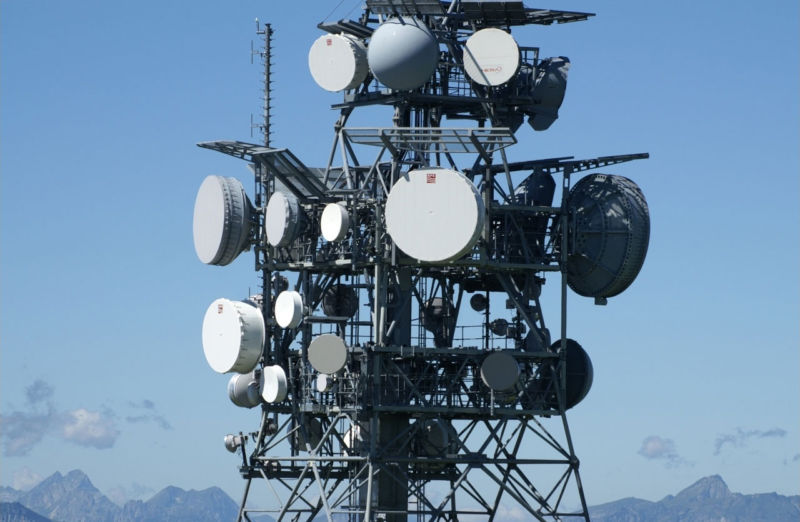ba: (377, 157, 491, 299), (552, 164, 648, 327), (194, 291, 266, 379), (184, 164, 243, 268), (454, 30, 521, 108), (312, 22, 369, 102), (261, 183, 302, 267), (524, 52, 564, 131), (301, 322, 352, 375), (319, 184, 351, 256), (474, 347, 525, 391), (278, 279, 305, 333)
